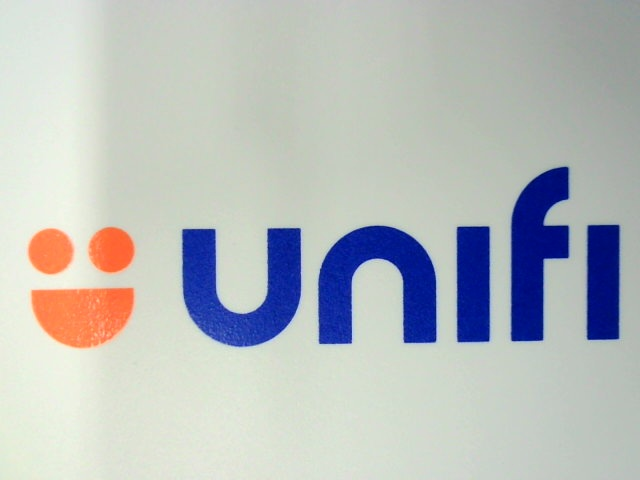BN_unifi: (26, 163, 626, 354)
